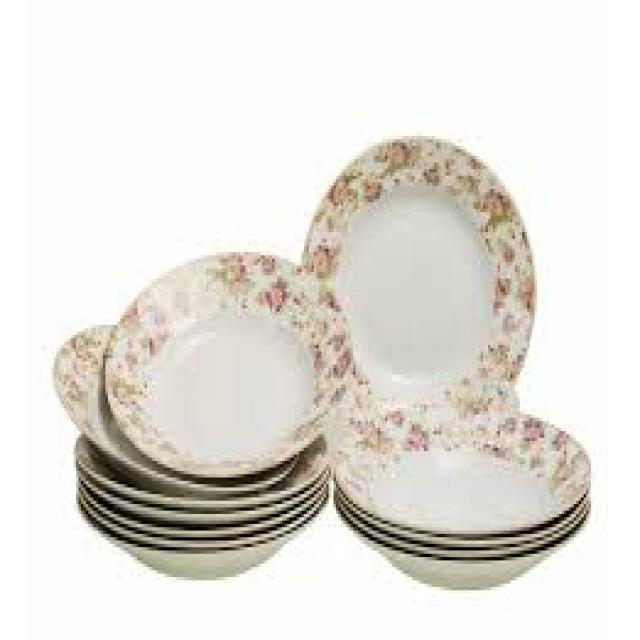Plate: (47, 247, 328, 586), (342, 392, 600, 602)
